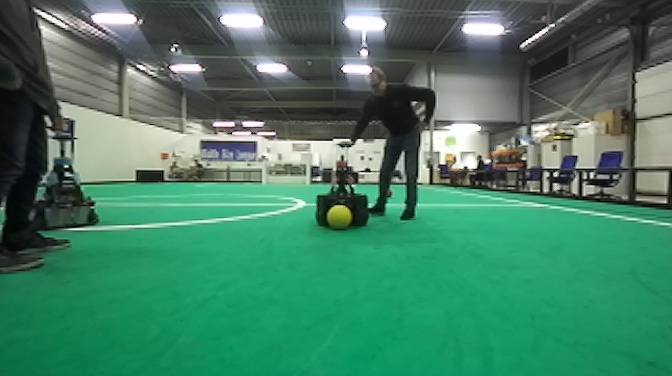ball: (325, 204, 354, 232)
goal: (261, 162, 312, 189)
goalpost: (305, 163, 313, 188), (261, 163, 266, 187)
human: (1, 1, 72, 275), (332, 66, 436, 223)
robot: (32, 115, 101, 232), (314, 141, 371, 231)
